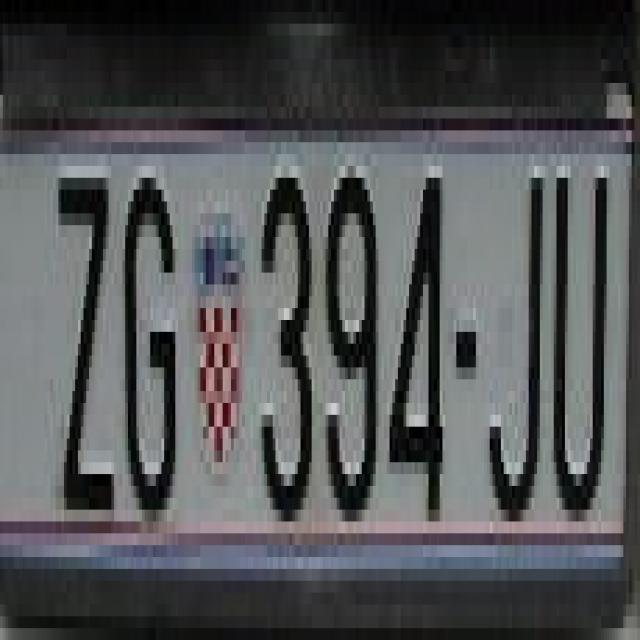3: (256, 154, 314, 522)
4: (384, 154, 451, 522)
9: (320, 142, 376, 534)
G: (120, 154, 181, 522)
U: (548, 142, 610, 534)
Z: (56, 154, 117, 522)
